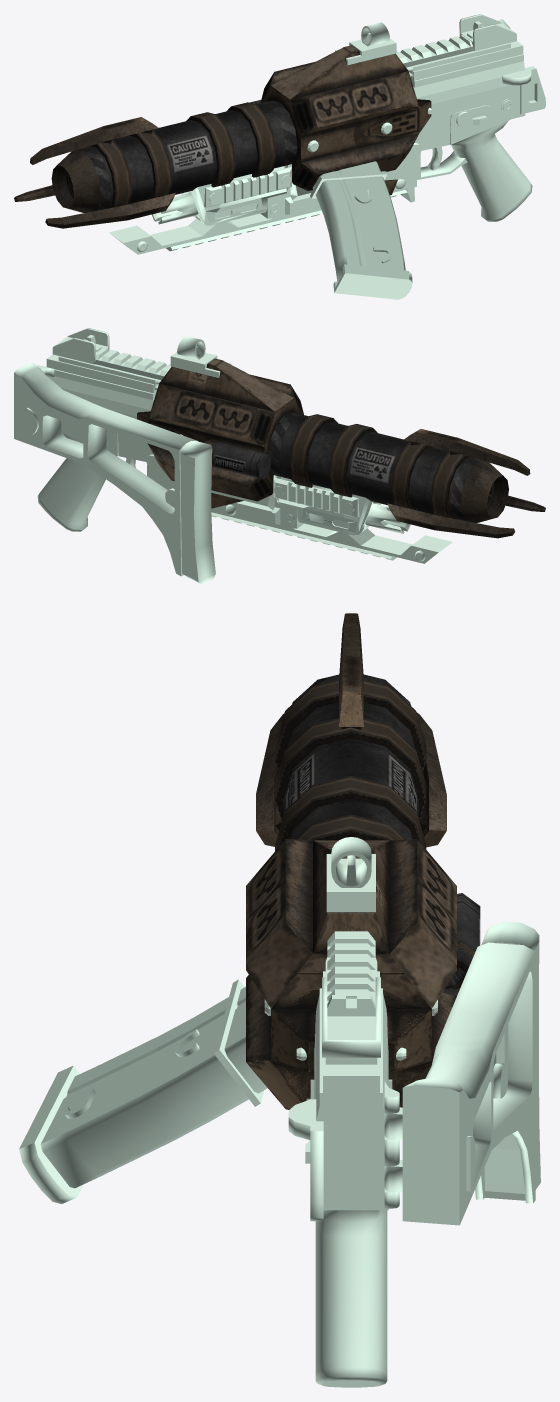
Rendered from G36_PlasmaGun.FBX.
3 views of the same model, one above another, from view 1: azimuth 30°, elevation 25°; view 2: azimuth 150°, elevation 25°; view 3: azimuth 270°, elevation 25° (orthographic). The views are drawn at different scales.
Visible parts, largest first — view 1: G36_PlasmaGun; view 2: G36_PlasmaGun; view 3: G36_PlasmaGun.
Boxes of the visible parts, box(x1,y1,x2,y2) form: G36_PlasmaGun: box(14, 14, 545, 299); G36_PlasmaGun: box(14, 328, 545, 584); G36_PlasmaGun: box(19, 613, 540, 1387).
Size of the model in its own units: 7.22 by 3.04 by 3.3.
